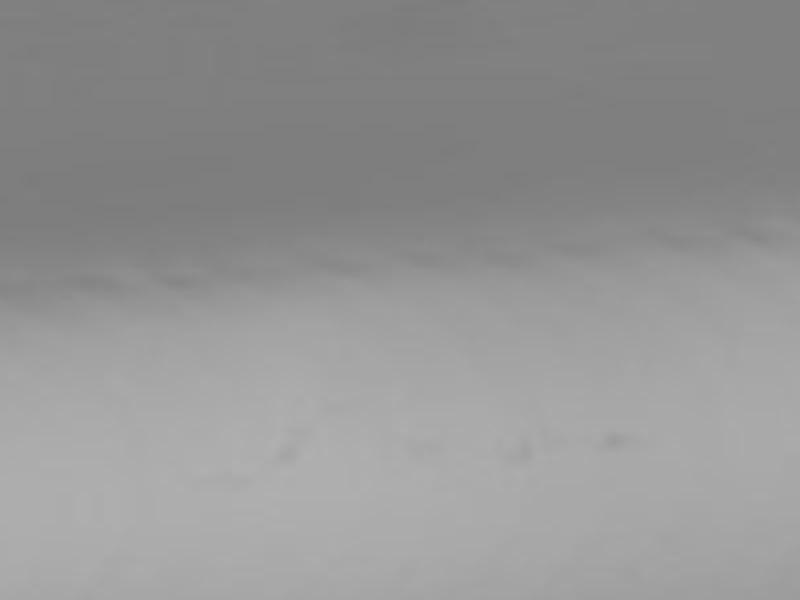defect: (504, 430, 531, 457), (605, 431, 625, 451), (278, 444, 296, 462)
